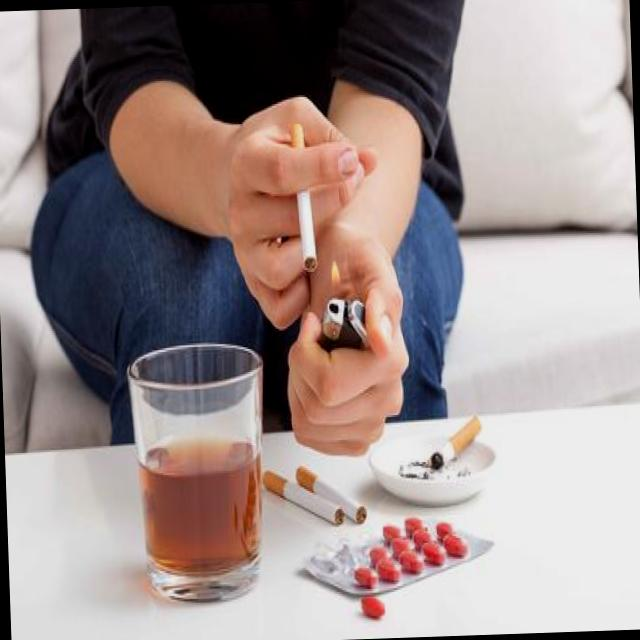smoke: (284, 115, 319, 274)
